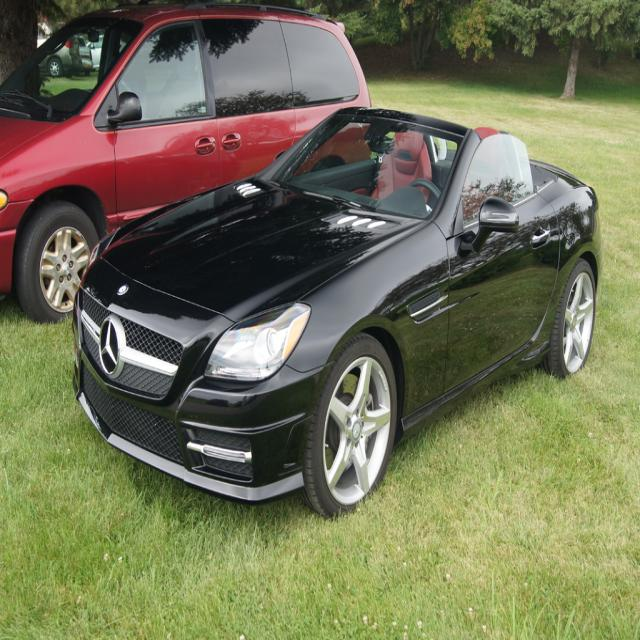car: (70, 91, 601, 526)
